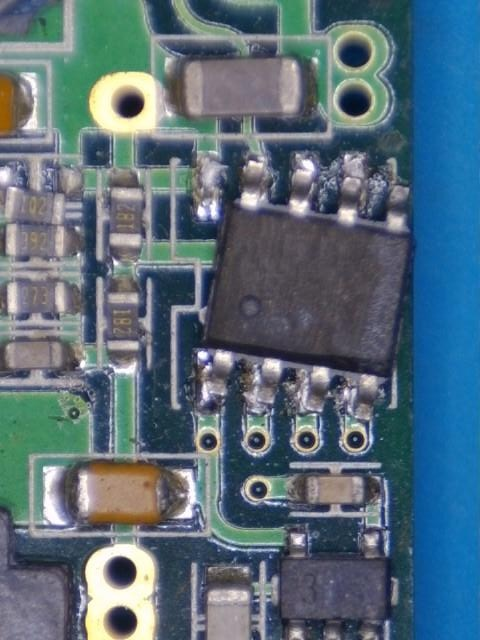pcb_defect: (198, 151, 412, 420), (0, 159, 83, 224)
